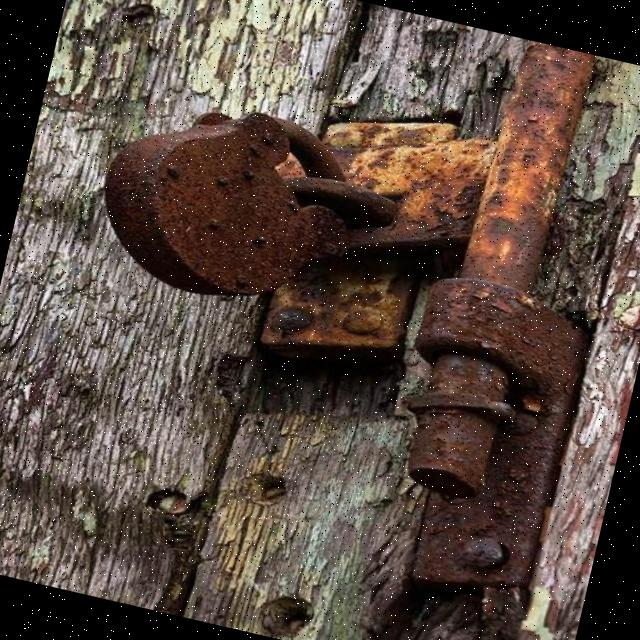Corrosion: (30, 0, 640, 610), (358, 29, 640, 606), (83, 78, 411, 333)
